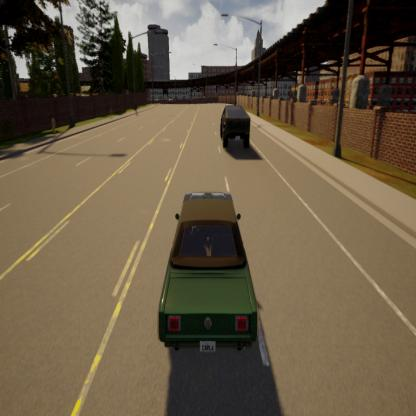Cars: (134, 174, 272, 360), (209, 96, 260, 155)
Pedestrian: (51, 114, 64, 145)
